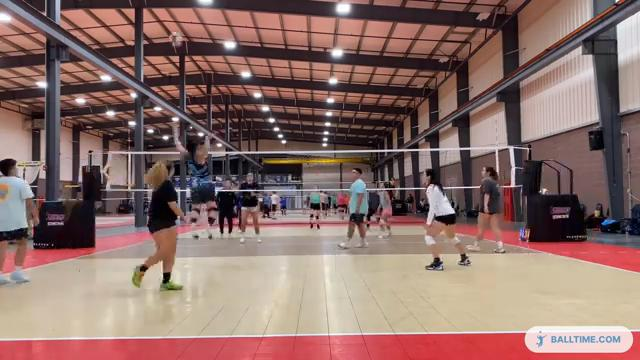Attack: (170, 118, 218, 240)
Player: (132, 162, 183, 290), (0, 159, 38, 284), (425, 169, 469, 270), (467, 167, 504, 252), (338, 168, 368, 248), (239, 173, 261, 243), (216, 179, 236, 236), (378, 182, 392, 238), (309, 187, 321, 228)
ball: (169, 32, 181, 46)
